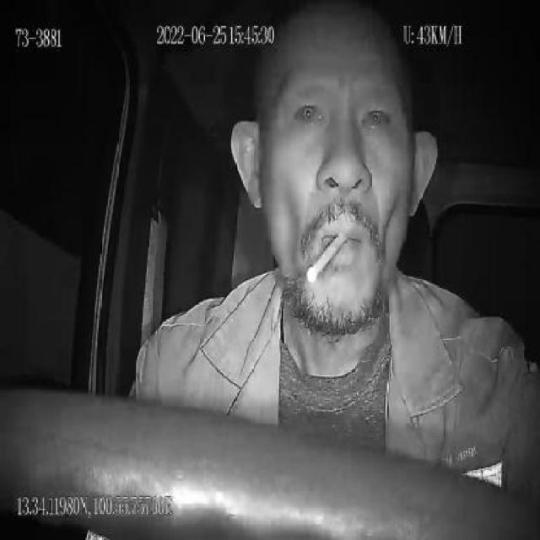smoking: (306, 234, 347, 282)
